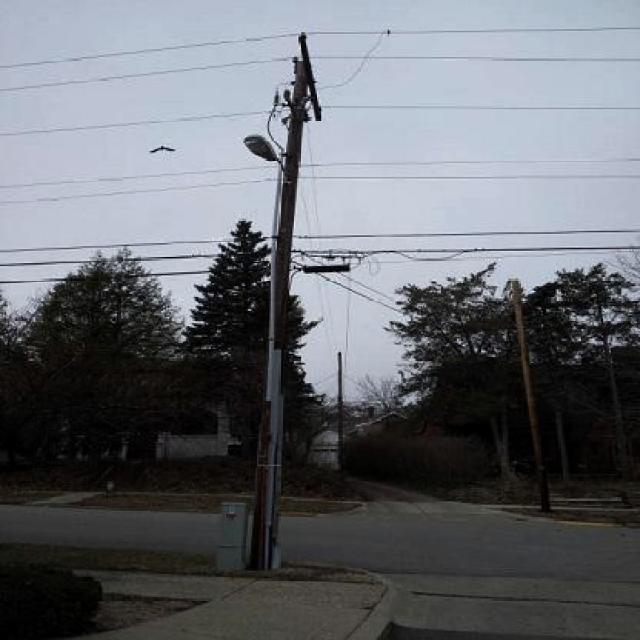crossarm: (298, 34, 321, 119)
pole: (247, 60, 311, 570)
wire: (1, 27, 640, 69), (0, 56, 640, 92), (0, 158, 640, 189), (0, 106, 640, 136), (1, 175, 639, 203), (0, 229, 639, 254), (0, 247, 639, 267), (303, 254, 407, 309), (313, 272, 405, 316), (315, 34, 384, 90), (1, 269, 213, 285)
